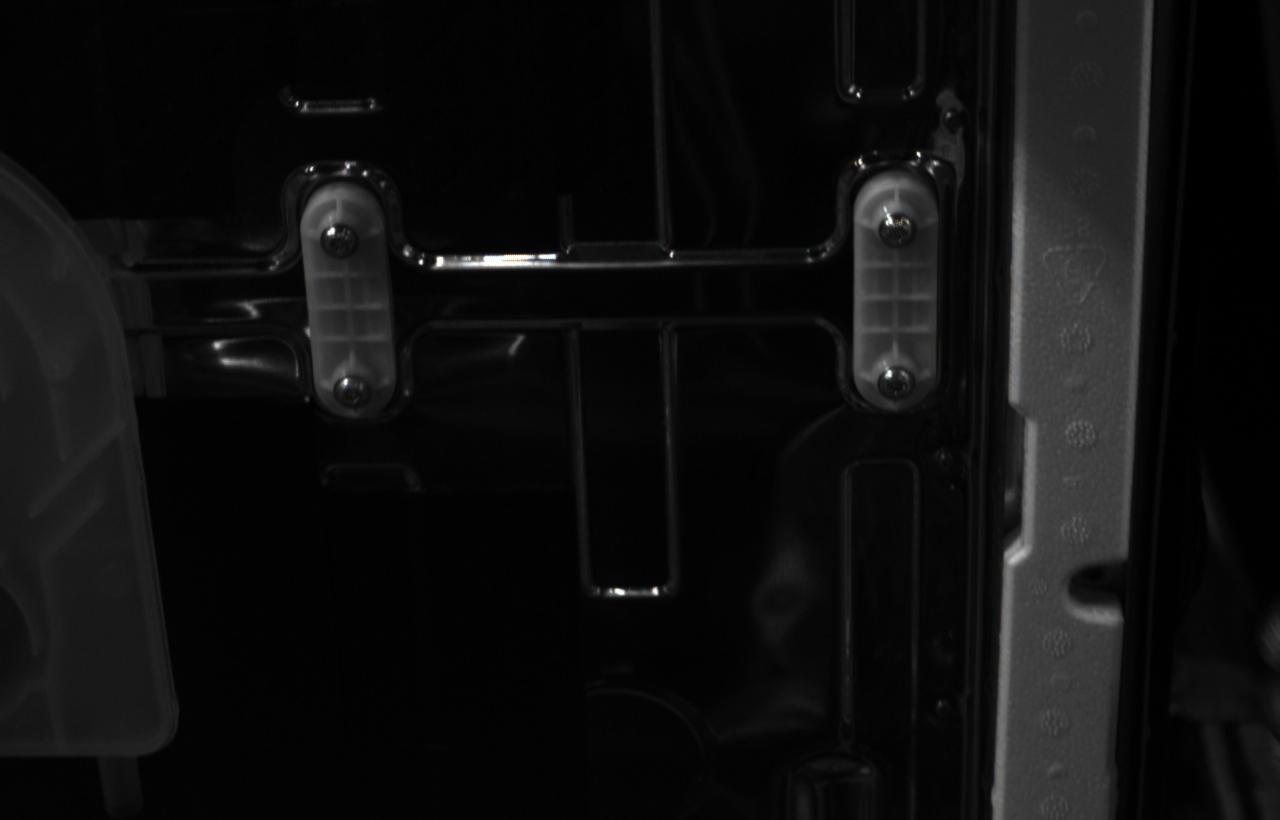vida-ok: (331, 374, 373, 411), (320, 223, 360, 261), (877, 366, 918, 403), (878, 213, 917, 251)
